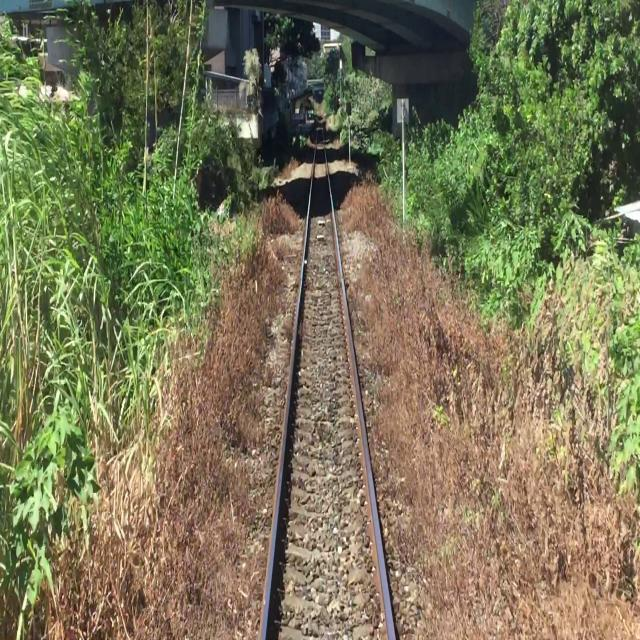rail: (215, 98, 441, 640)
